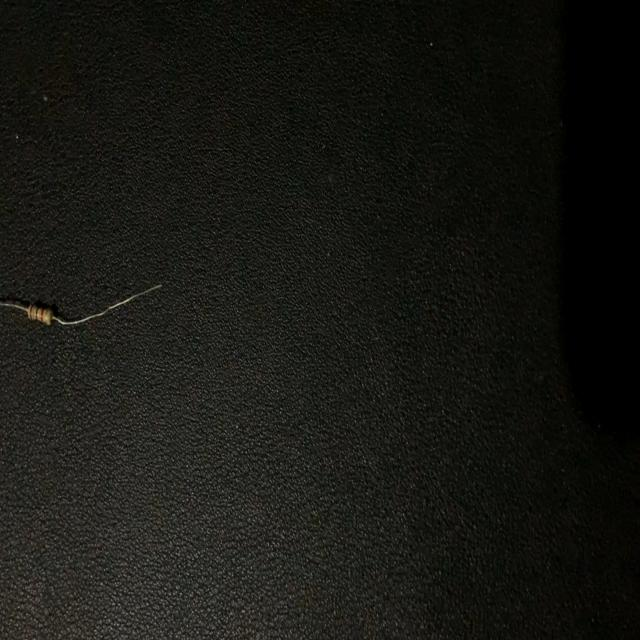resistor: (0, 271, 164, 333)
